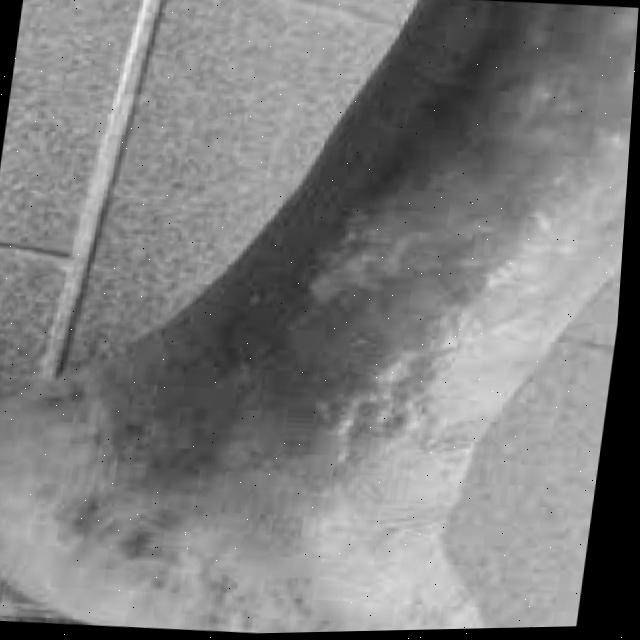Eczema: (286, 89, 516, 457)
